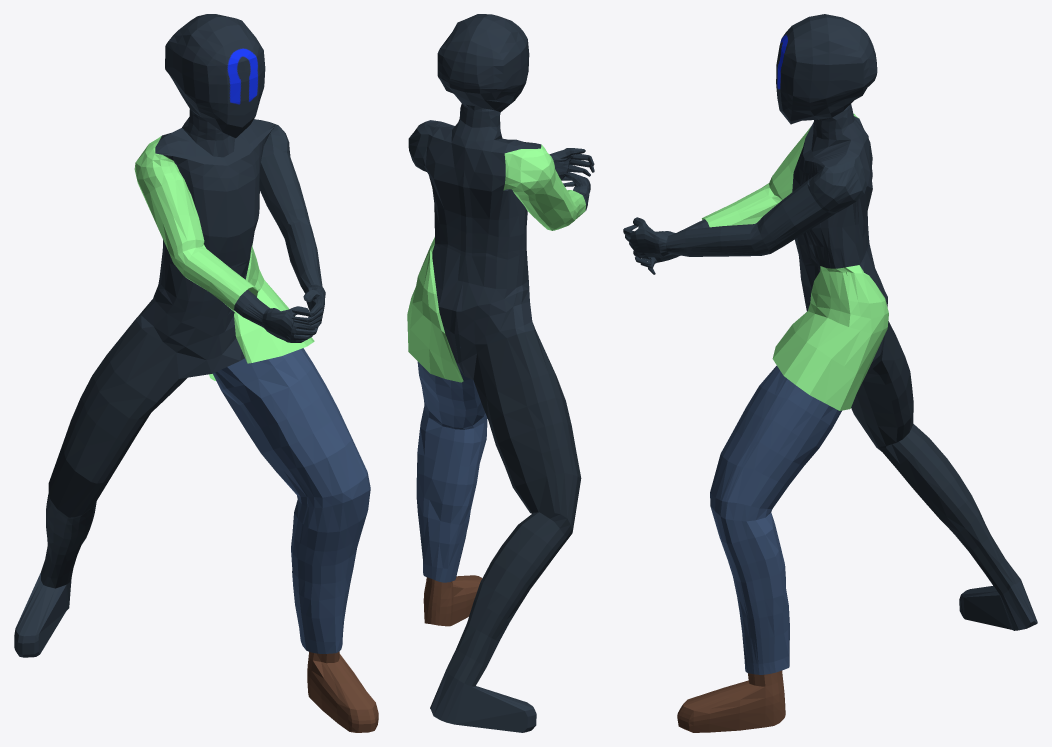
Rendered from Mar_WL_000022.obj.
3 views of the same model, side by side, from view 1: azimuth 30°, elevation 25°; view 2: azimuth 150°, elevation 25°; view 3: azimuth 270°, elevation 25° (orthographic). The views are drawn at different scales.
Parts seen in each view (by area): view 1: Cube.000_Cube.001; view 2: Cube.000_Cube.001; view 3: Cube.000_Cube.001.
Part boxes in pixels (box(x1,y1,x2,y2)): Cube.000_Cube.001: box(14, 14, 378, 732); Cube.000_Cube.001: box(407, 14, 594, 732); Cube.000_Cube.001: box(623, 14, 1037, 732).
Size of the model in its own units: 1.34 by 3.73 by 2.09.
